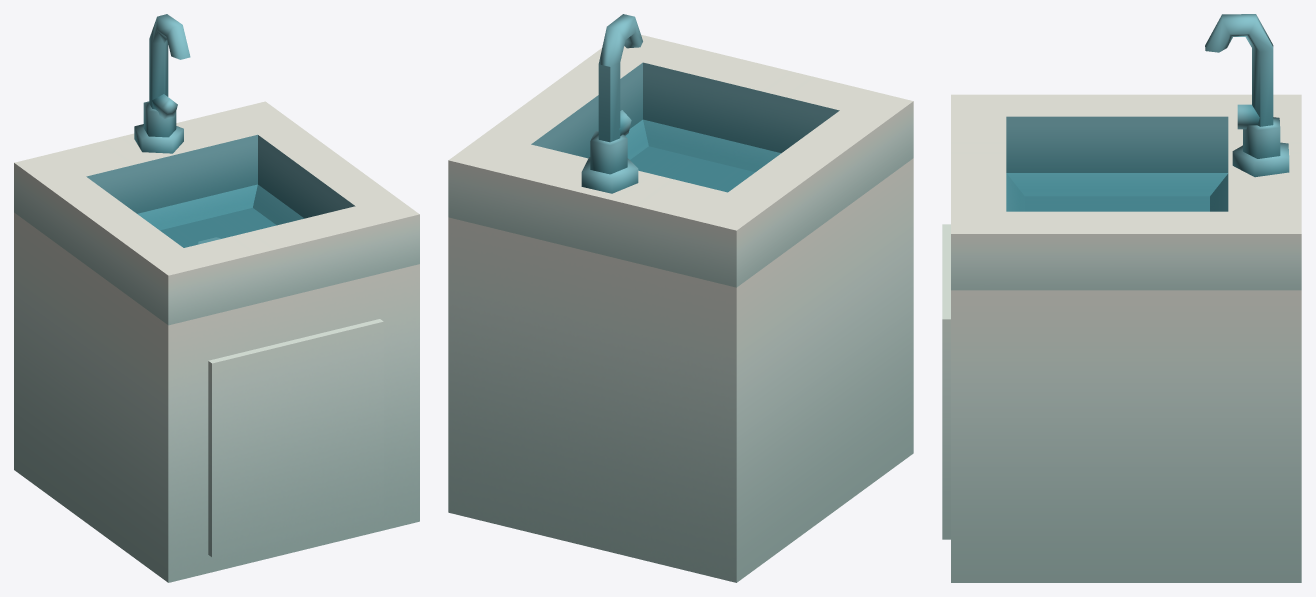
The model's file is Prop_BathroomSink.fbx.
The picture shows the model from 3 angles, left to right: view 1: azimuth 30°, elevation 25°; view 2: azimuth 150°, elevation 25°; view 3: azimuth 270°, elevation 25°; orthographic projection. The views are drawn at different scales.
Visible parts, largest first — view 1: Prop_BathroomSink; view 2: Prop_BathroomSink; view 3: Prop_BathroomSink.
Boxes of the visible parts, left/top/right/bottom form: Prop_BathroomSink: left=14, top=14, right=419, bottom=582; Prop_BathroomSink: left=448, top=14, right=913, bottom=582; Prop_BathroomSink: left=942, top=14, right=1301, bottom=582.
Bounding box in the file's own units: 163 × 271 × 177.
